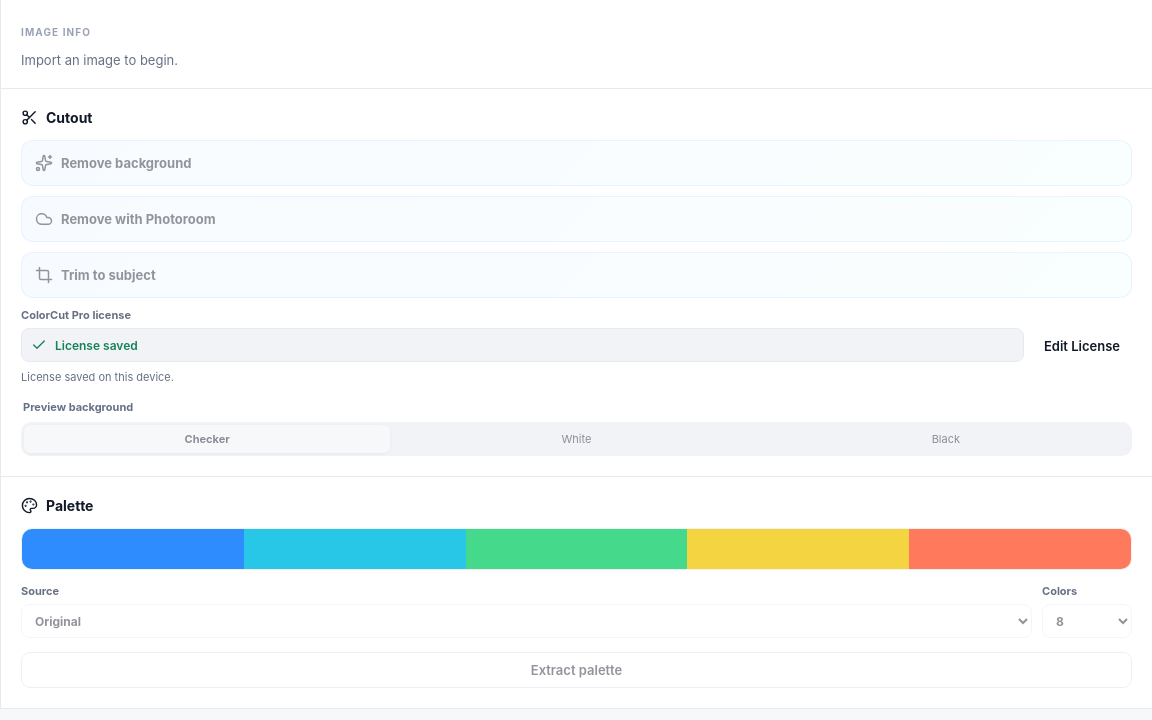
it: Inspector › replaces the input with a saved indicator once a license exists, and Edit License brings the input back
The width and height of the screenshot is (1152, 720).
Expected: the text "License saved" is shown, [21,328,1024,362]
Click the button "Edit License". click: x=1082, y=346
box: [1032,328,1132,364]
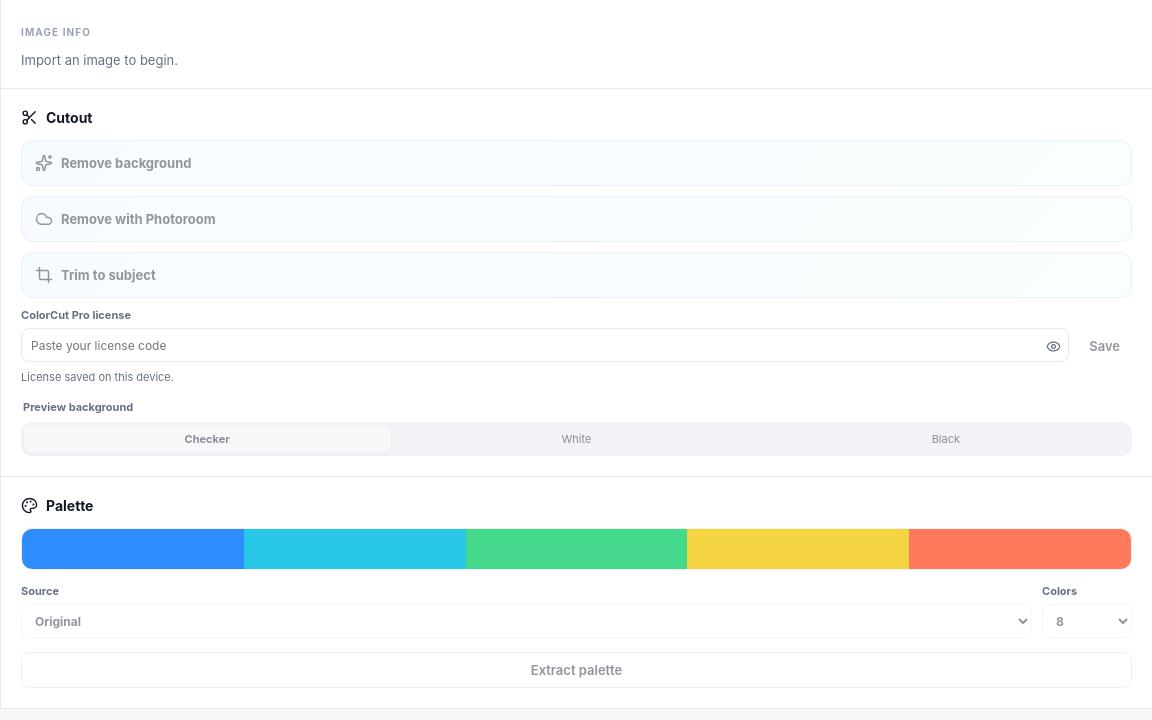
Now the password field labelled "ColorCut Pro license" is shown, box [21,328,1069,362]
Now the button "Save" is shown, box [1077,328,1132,364]
